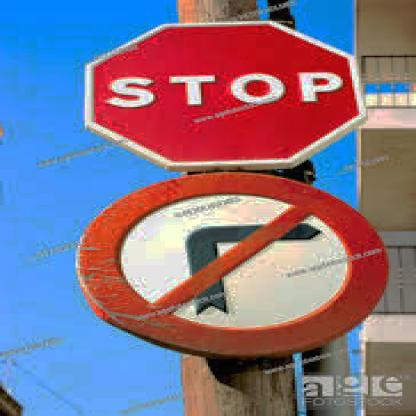No right turn: (65, 169, 394, 357)
